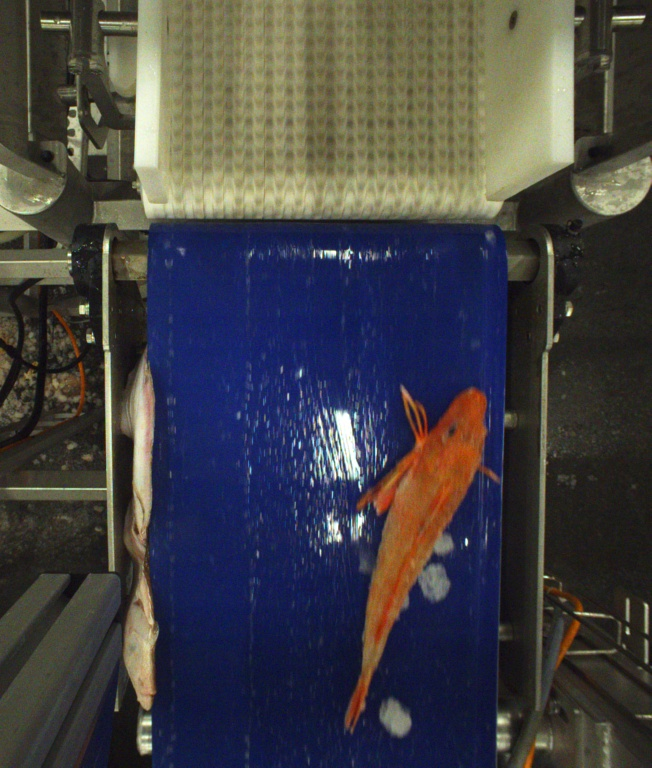GUU: (344, 389, 504, 731)
